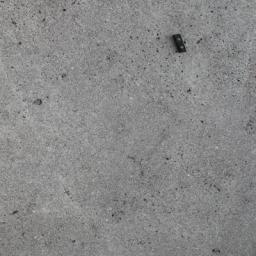FOD: (171, 32, 190, 55)
